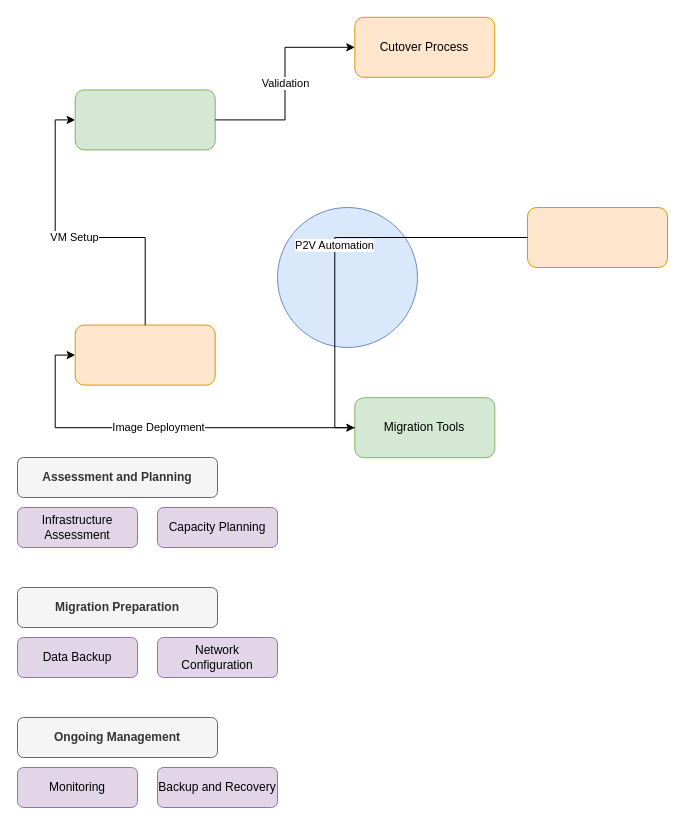
Some shapes in this 685 by 826 pixel diagram are drawn without their labels. The shapes that lost their labels are listed below. From the top down, each one's centre as x and y in pixels, then its label:
At point (144, 119): "Testing and Validation".
At point (597, 237): "RiverMeadow Platform".
At point (347, 277): "Physical Server".
At point (144, 354): "Virtual Environment".
